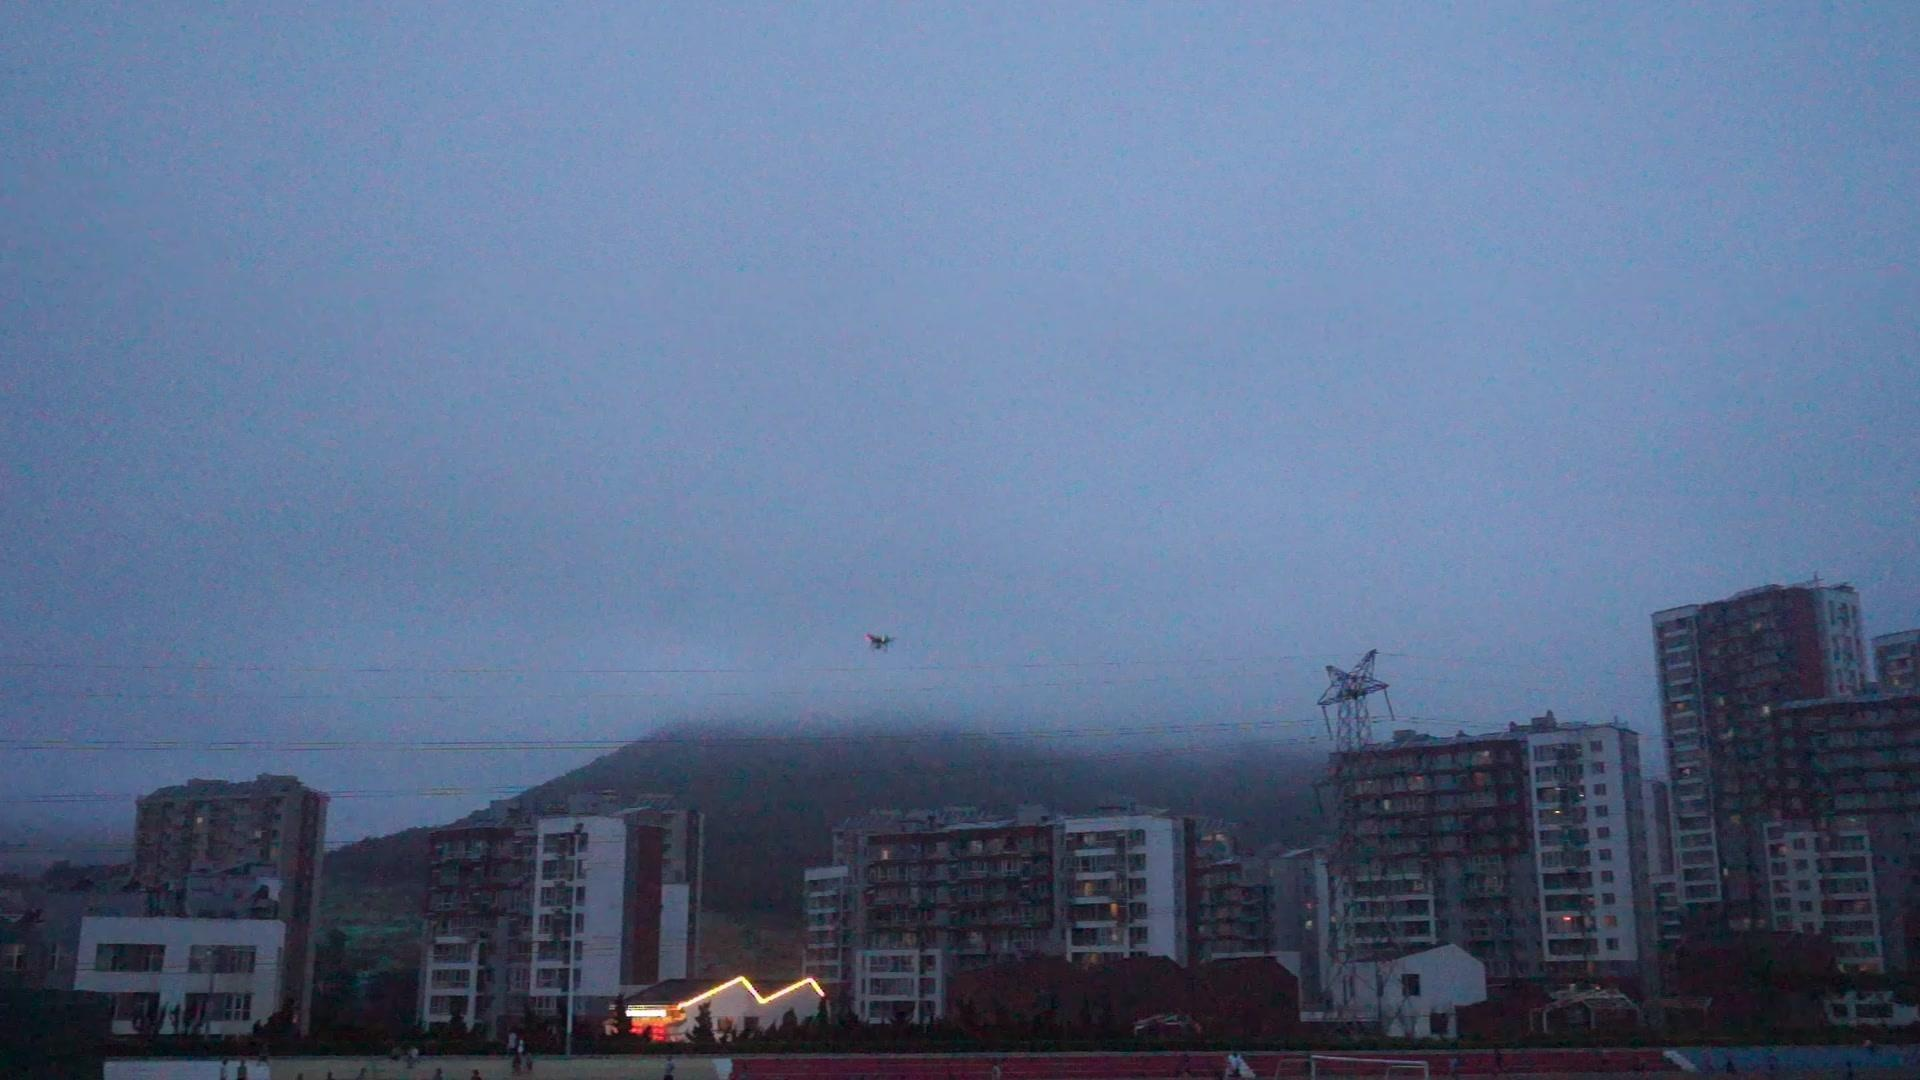UAV: (865, 634, 897, 653)
